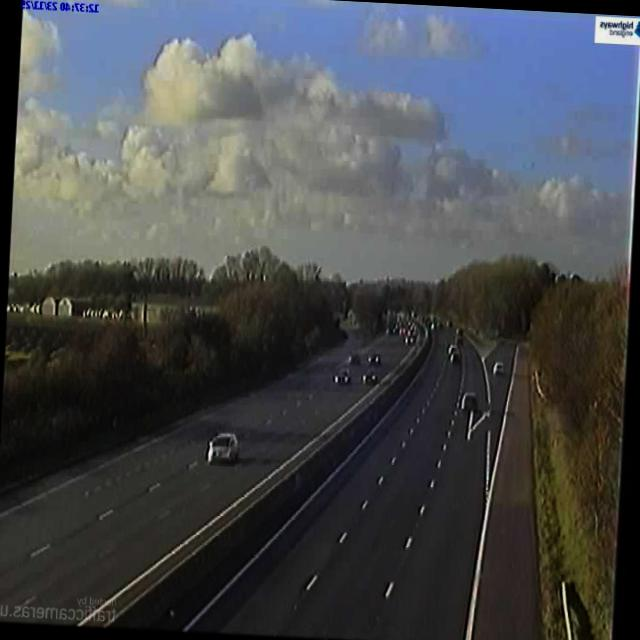foliage: (0, 274, 341, 490), (438, 257, 629, 640)
